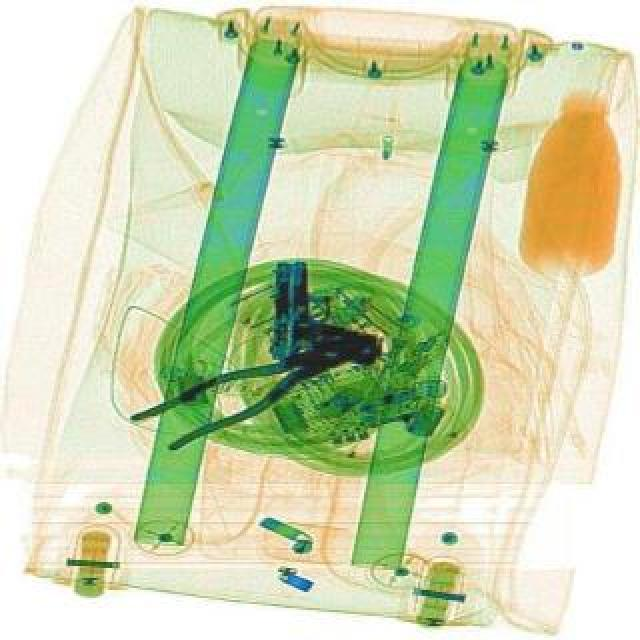gun: (262, 256, 392, 368)
wrench: (126, 310, 388, 458)
